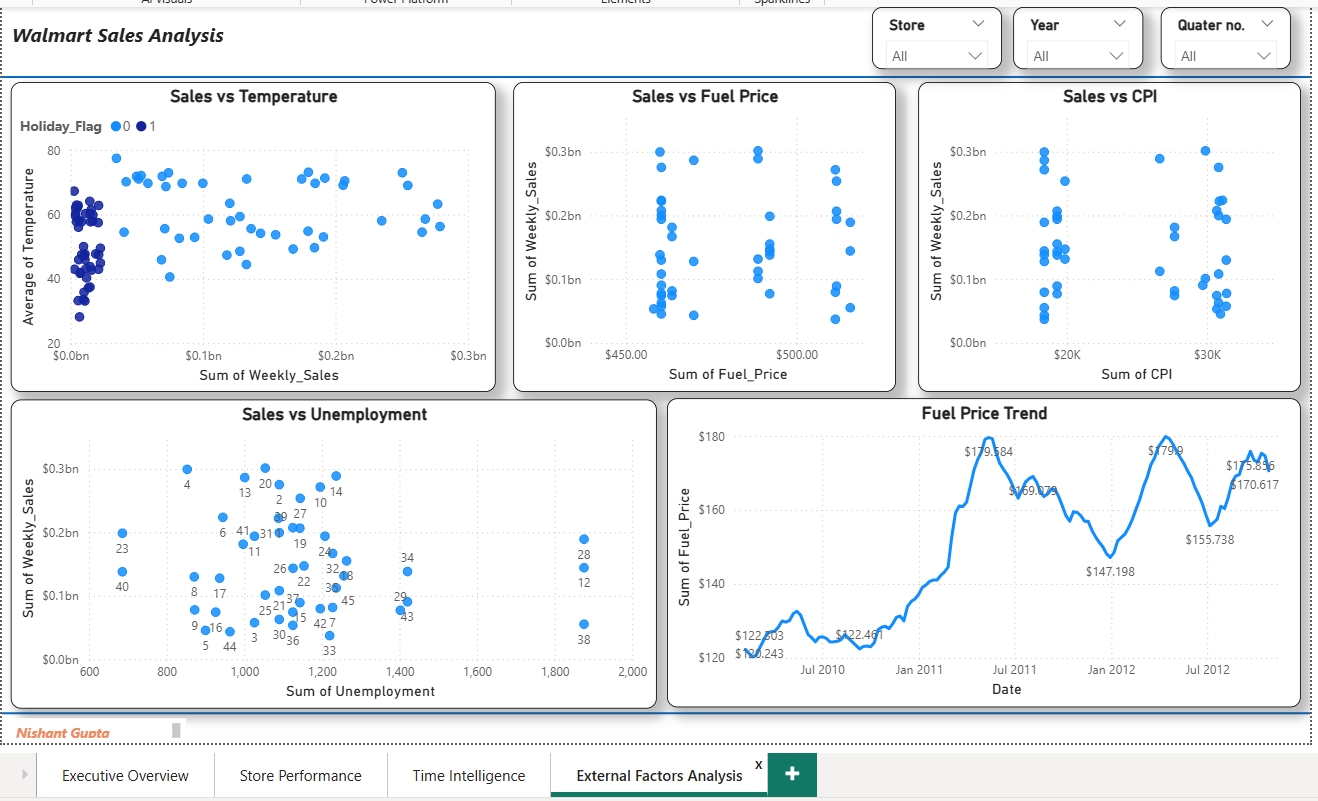

What the dashboard file says about the page in this screenshot:
{"tool":"powerbi","page":{"name":"External Factors Analysis","canvas":[1280,720],"ordinal":3},"visuals":[{"type":"shape","box":[0,62.4,1280,12.2],"z":0},{"type":"shape","box":[0,684.8,1280,12.2],"z":1000},{"type":"scatterChart","title":"Sales vs Temperature","fields":{"Series":["Walmart DataSet.Holiday_Flag"],"Y":["Avg(Walmart DataSet.Temperature)"],"X":["Sum(Walmart DataSet.Weekly_Sales)"],"Category":["Walmart DataSet.Store"]},"box":[8.6,73.4,474.5,303.3],"z":2000},{"type":"scatterChart","title":"Sales vs Fuel Price","fields":{"X":["Sum(Walmart DataSet.Fuel_Price)"],"Y":["Sum(Walmart DataSet.Weekly_Sales)"],"Category":["Walmart DataSet.Store"]},"box":[500.1,73.4,374.2,303.3],"z":3000},{"type":"scatterChart","title":"Sales vs CPI","fields":{"Y":["Sum(Walmart DataSet.Weekly_Sales)"],"X":["Sum(Walmart DataSet.CPI)"],"Category":["Walmart DataSet.Store"]},"box":[896.3,73.4,374.2,303.3],"z":4000},{"type":"scatterChart","title":"Sales vs Unemployment","fields":{"X":["Sum(Walmart DataSet.Unemployment)"],"Y":["Sum(Walmart DataSet.Weekly_Sales)"],"Category":["Walmart DataSet.Store"]},"box":[8.6,384,632.2,302],"z":5000},{"type":"lineChart","title":"Fuel Price Trend","fields":{"Category":["Walmart DataSet.Date.Variation.Date Hierarchy.Year"],"Y":["Sum(Walmart DataSet.Fuel_Price)"]},"box":[650.5,382.7,620,302],"z":6000},{"type":"slicer","fields":{"Values":["Walmart DataSet.Store"]},"box":[851.1,0,127.2,61.1],"z":7000},{"type":"slicer","fields":{"Values":["Date.Year"]},"box":[989.3,0,127.2,61.1],"z":8000},{"type":"slicer","fields":{"Values":["Date.Quater no."]},"box":[1133.6,0,127.2,61.1],"z":9000},{"type":"textbox","box":[4.9,9.8,221.3,51.4],"z":9001},{"type":"textbox","box":[4.9,695.5,174.9,24.5],"z":9002}]}

Visuals, with their boxes on the page's 1280x720 design canvas (x1, y1, x2, y2). These are canvas units, not pixel positions in the 1318x801 screenshot, which may show the page scaled, cropped or inside an application window:
shape: [0,62,1280,75]
shape: [0,685,1280,697]
"Sales vs Temperature" scatterChart: [9,73,483,377]
"Sales vs Fuel Price" scatterChart: [500,73,874,377]
"Sales vs CPI" scatterChart: [896,73,1270,377]
"Sales vs Unemployment" scatterChart: [9,384,641,686]
"Fuel Price Trend" lineChart: [650,383,1270,685]
slicer - Walmart DataSet.Store: [851,0,978,61]
slicer - Date.Year: [989,0,1116,61]
slicer - Date.Quater no.: [1134,0,1261,61]
textbox: [5,10,226,61]
textbox: [5,696,180,720]
